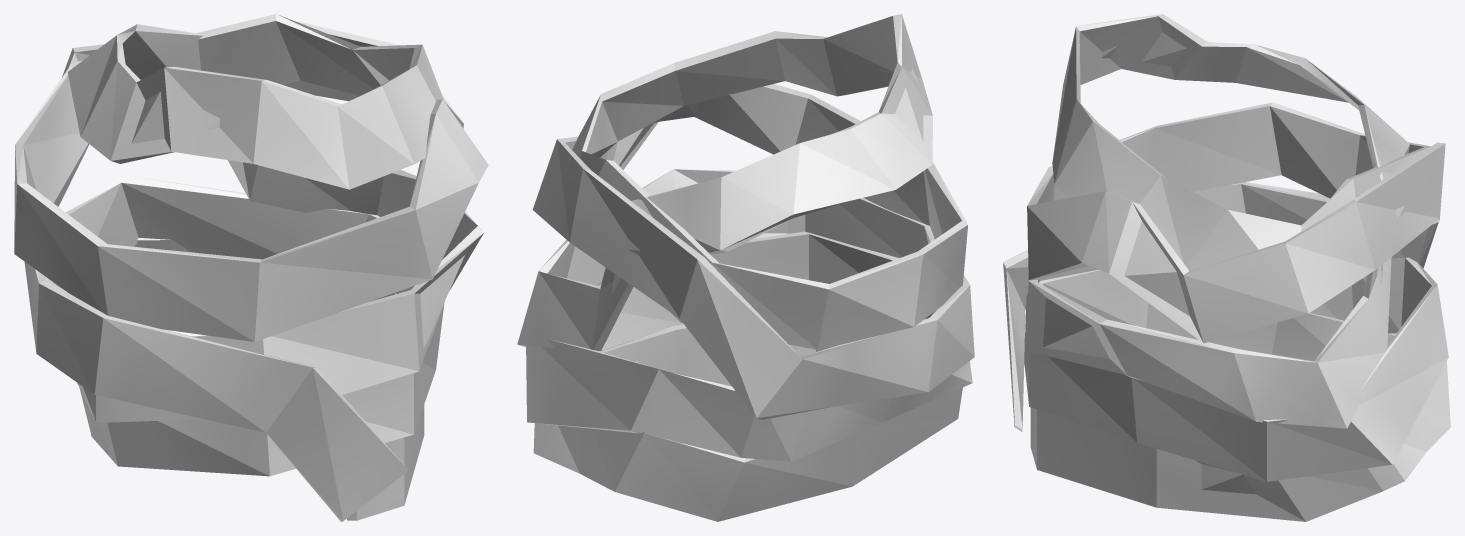
The model's file is MUMMY WRAP.fbx.
The picture shows the model from 3 angles, left to right: view 1: azimuth 30°, elevation 25°; view 2: azimuth 150°, elevation 25°; view 3: azimuth 270°, elevation 25°; orthographic projection. The views are drawn at different scales.
Parts seen in each view (by area): view 1: MUMMY_WRAP; view 2: MUMMY_WRAP; view 3: MUMMY_WRAP.
Boxes of the visible parts, x1,y1,x2,y2 form: MUMMY_WRAP: (14, 14, 488, 521); MUMMY_WRAP: (517, 14, 974, 521); MUMMY_WRAP: (1003, 14, 1450, 521).
Bounding box in the file's own units: 28.53 × 28.96 × 30.03.
